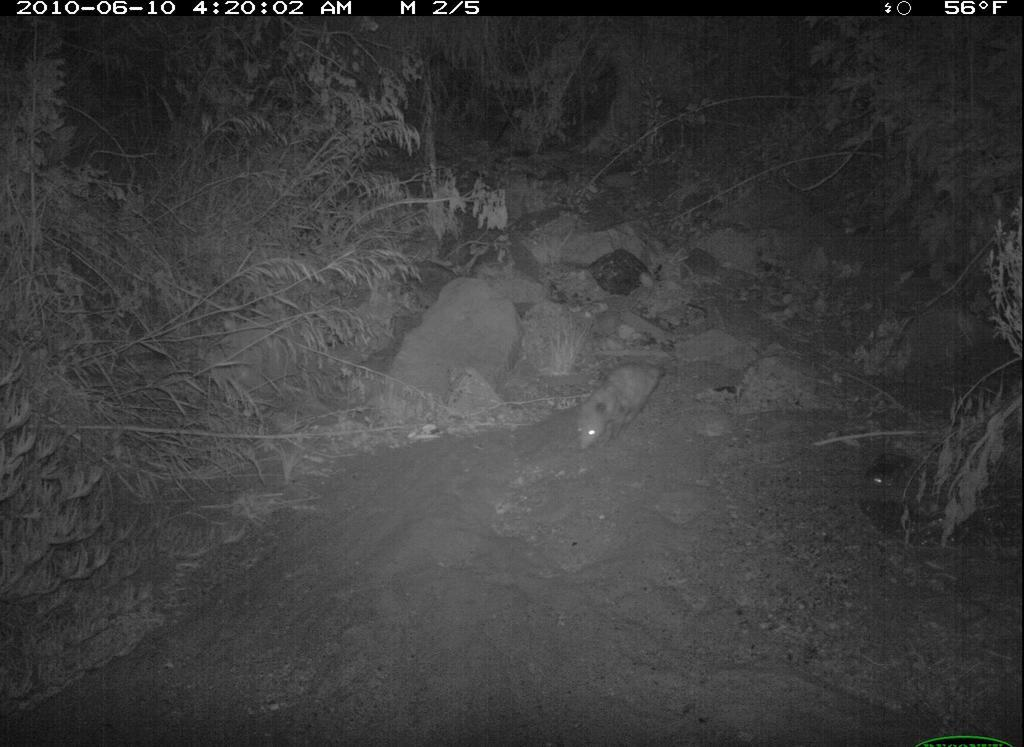opossum: (566, 324, 684, 460)
